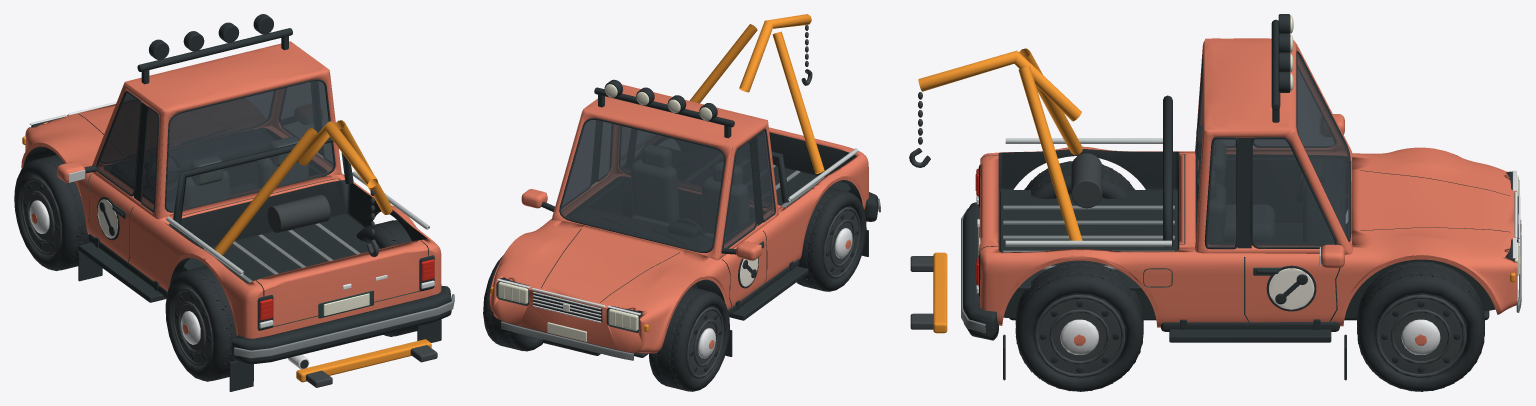
File: pitgarage_lod1.fbx
3 views of the same model, side by side, from view 1: azimuth 30°, elevation 25°; view 2: azimuth 150°, elevation 25°; view 3: azimuth 270°, elevation 25° (orthographic). The views are drawn at different scales.
Parts seen in each view (by area): view 1: Body, Wheel_RL_Mesh, Wheel_FL_Mesh, Wheel_RR_Mesh; view 2: Body, Wheel_FL_Mesh, Wheel_RL_Mesh, Wheel_FR_Mesh; view 3: Body, Wheel_FR_Mesh, Wheel_RR_Mesh, Wheel_RL_Mesh.
Part boxes in pixels (left/top/right/bottom): Body: left=21, top=14, right=454, bottom=391; Wheel_RL_Mesh: left=165, top=265, right=236, bottom=381; Wheel_FL_Mesh: left=14, top=154, right=89, bottom=270; Wheel_RR_Mesh: left=356, top=220, right=417, bottom=336; Body: left=489, top=14, right=880, bottom=360; Wheel_FL_Mesh: left=649, top=287, right=729, bottom=391; Wheel_RL_Mesh: left=796, top=187, right=866, bottom=291; Wheel_FR_Mesh: left=483, top=255, right=543, bottom=351; Body: left=909, top=14, right=1521, bottom=380; Wheel_FR_Mesh: left=1357, top=261, right=1484, bottom=391; Wheel_RR_Mesh: left=1015, top=261, right=1143, bottom=391; Wheel_RL_Mesh: left=1024, top=161, right=1134, bottom=198.
Size of the model in its own units: 238 by 225 by 431.
